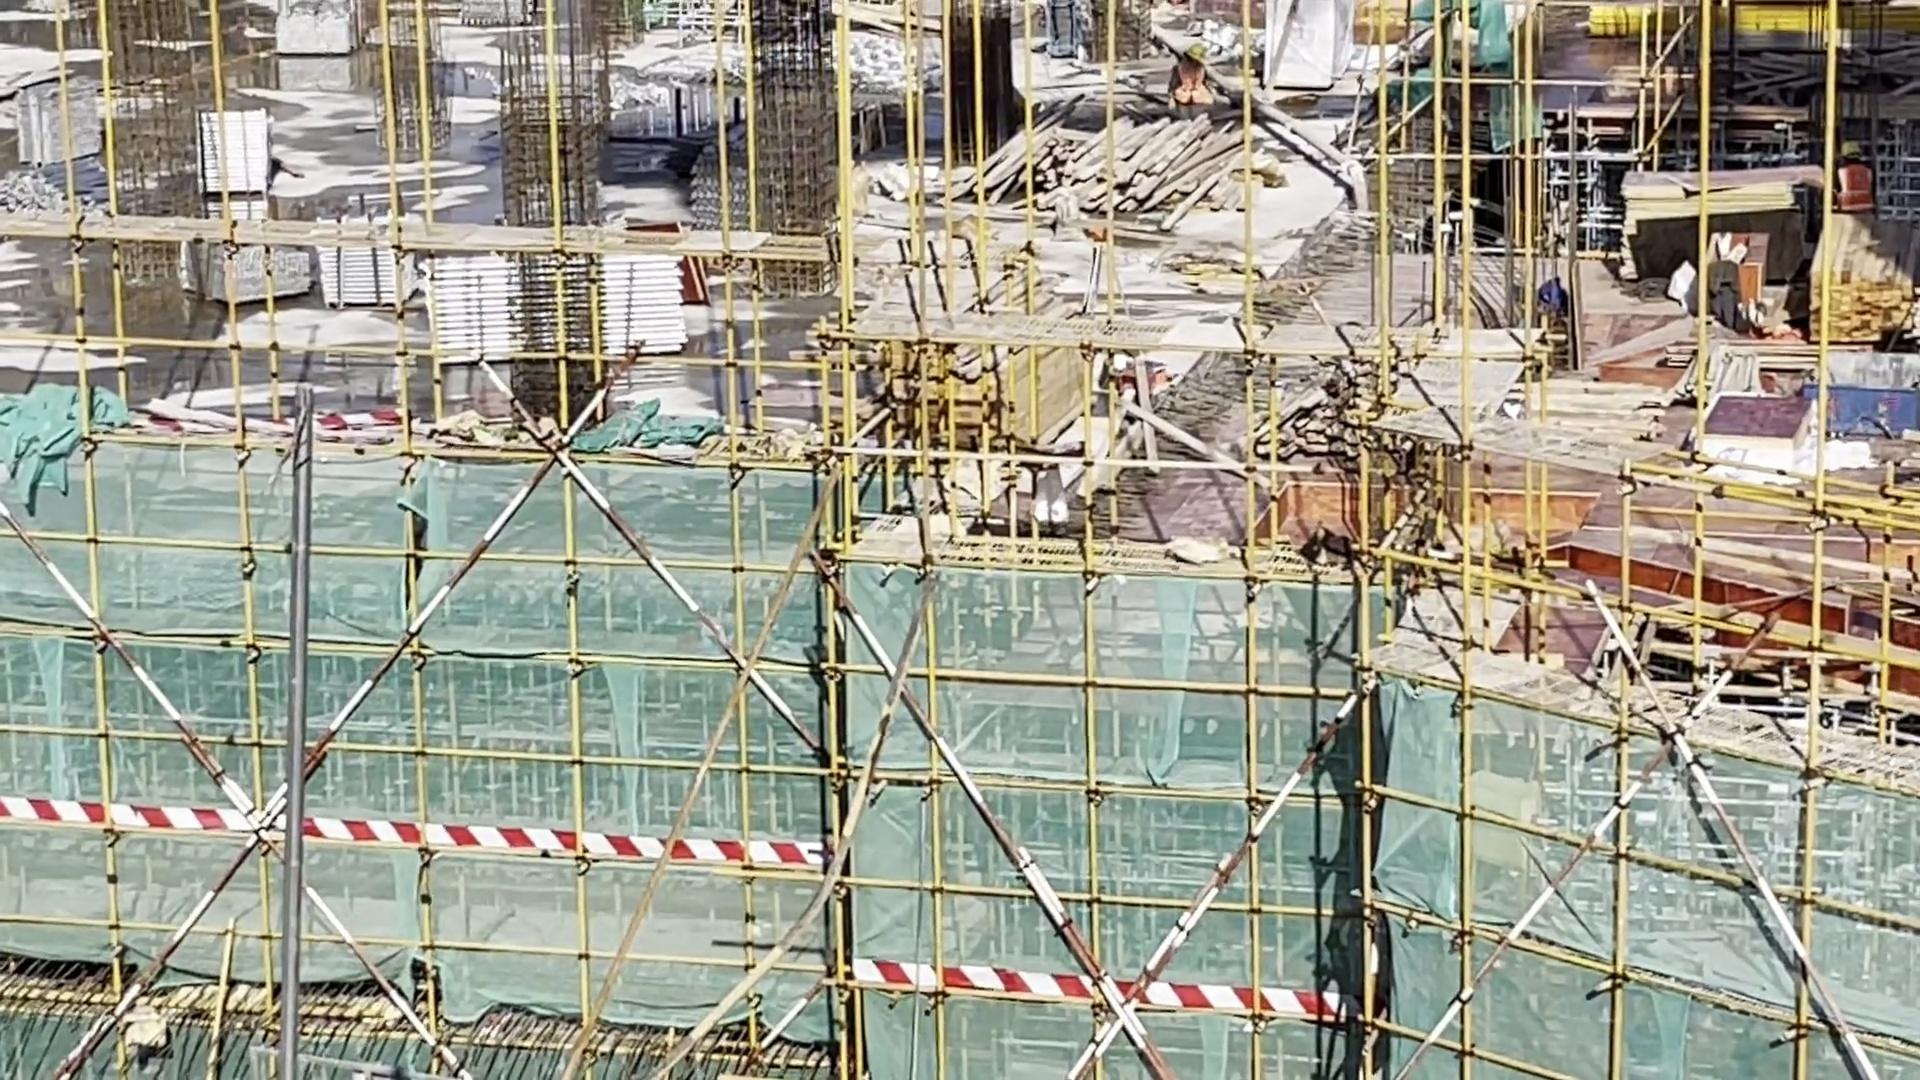helmet: (1103, 354, 1129, 378), (1182, 43, 1206, 57)
hopper: (1803, 339, 1920, 441)
person: (1158, 42, 1214, 115)
scaffold: (399, 230, 686, 371), (299, 207, 433, 326), (195, 108, 270, 204)
vest: (1167, 60, 1202, 101)
wood: (975, 107, 1264, 267), (854, 340, 1100, 456)
